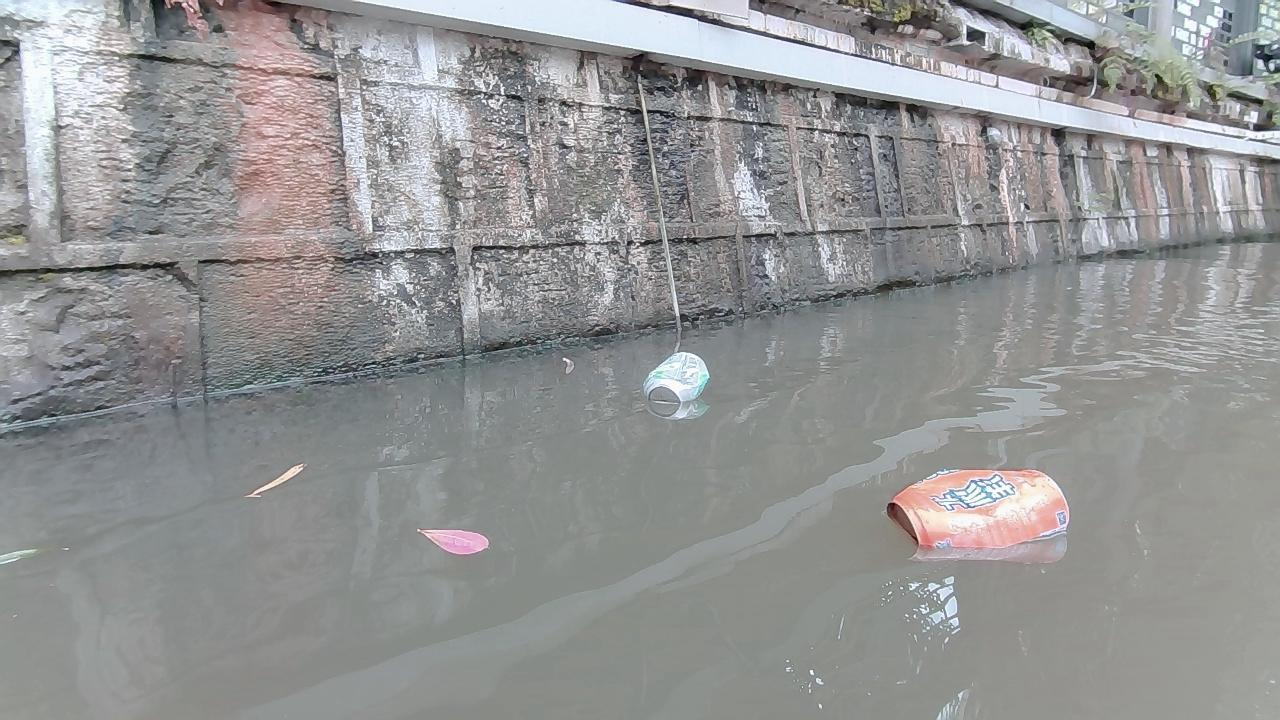Metal: (883, 465, 1071, 552), (641, 350, 711, 404)
